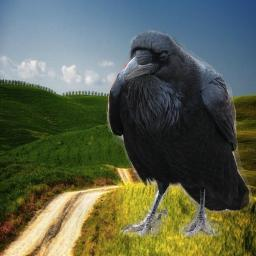Crow: (106, 29, 252, 237)
